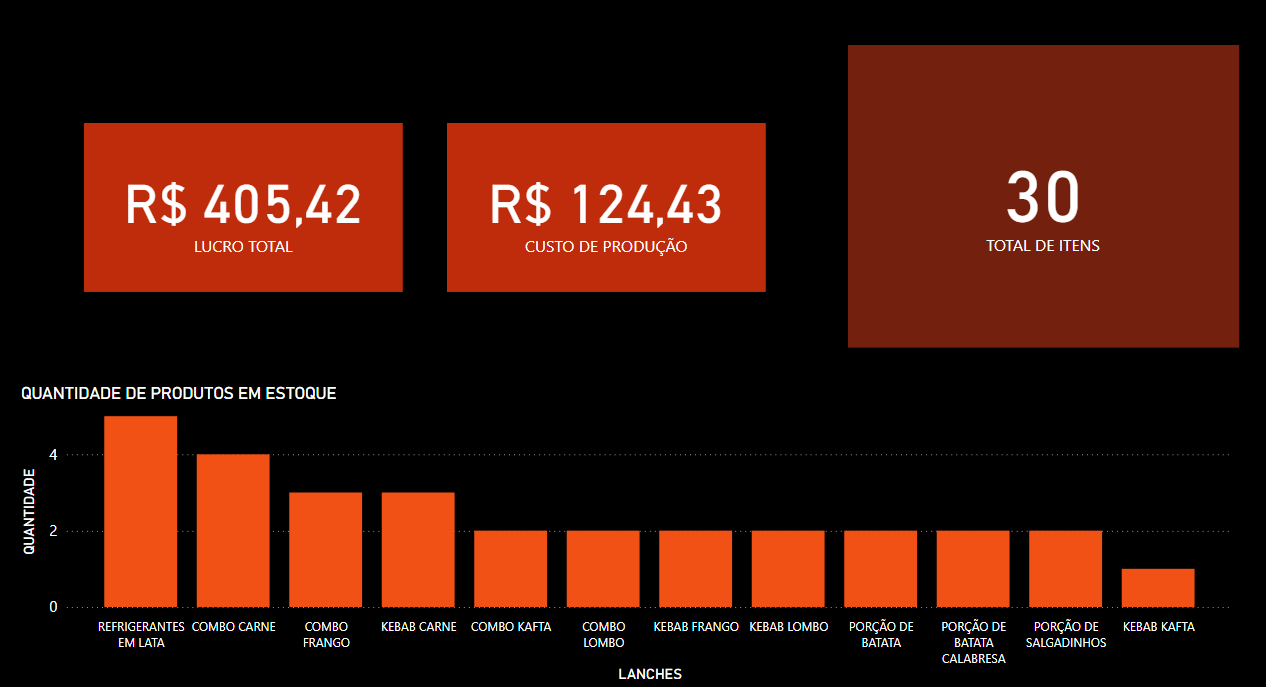

This screenshot's page, from the dashboard's own definition file:
{"tool":"powerbi","page":{"name":"Página 3","canvas":[1280,720],"ordinal":2},"visuals":[{"type":"card","fields":{"Values":["ESTOQUE.somatotal de lucro"]},"box":[95.8,136.6,316.9,167.6],"z":0},{"type":"card","fields":{"Values":["ESTOQUE.CUSTO TOTAL"]},"box":[456.3,136.6,316.9,167.6],"z":1000},{"type":"clusteredColumnChart","title":"QUANTIDADE DE PRODUTOS EM ESTOQUE","fields":{"Category":["ESTOQUE.CATEGORIA"],"Y":["Sum(ESTOQUE.QUANTIDADE)"]},"box":[28.2,394.4,1215.5,302.8],"z":2000},{"type":"card","fields":{"Values":["ESTOQUE.TOTAL DE ITENS"]},"box":[854.9,59.2,388.7,301.4],"z":3000}]}

Visuals, with their boxes on the page's 1280x720 design canvas (x1, y1, x2, y2). These are canvas units, not pixel positions in the 1266x687 screenshot, which may show the page scaled, cropped or inside an application window:
card - ESTOQUE.somatotal de lucro: bbox=[96, 137, 413, 304]
card - ESTOQUE.CUSTO TOTAL: bbox=[456, 137, 773, 304]
"QUANTIDADE DE PRODUTOS EM ESTOQUE" clusteredColumnChart: bbox=[28, 394, 1244, 697]
card - ESTOQUE.TOTAL DE ITENS: bbox=[855, 59, 1244, 361]
